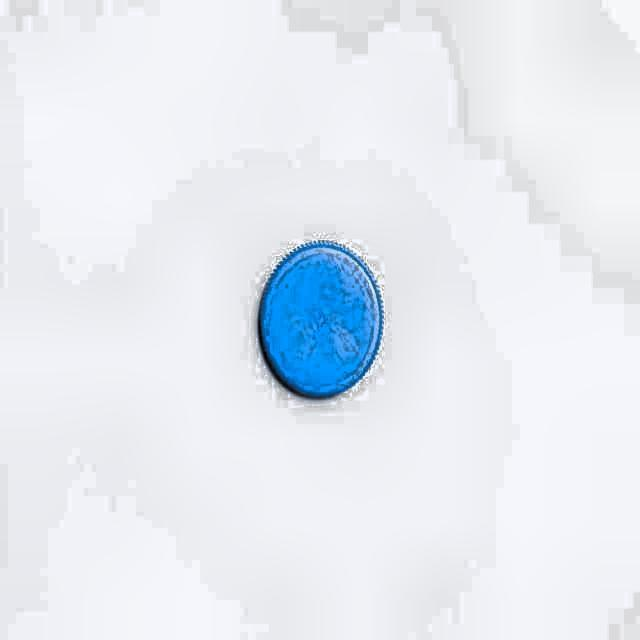plastic: (256, 240, 387, 402)
